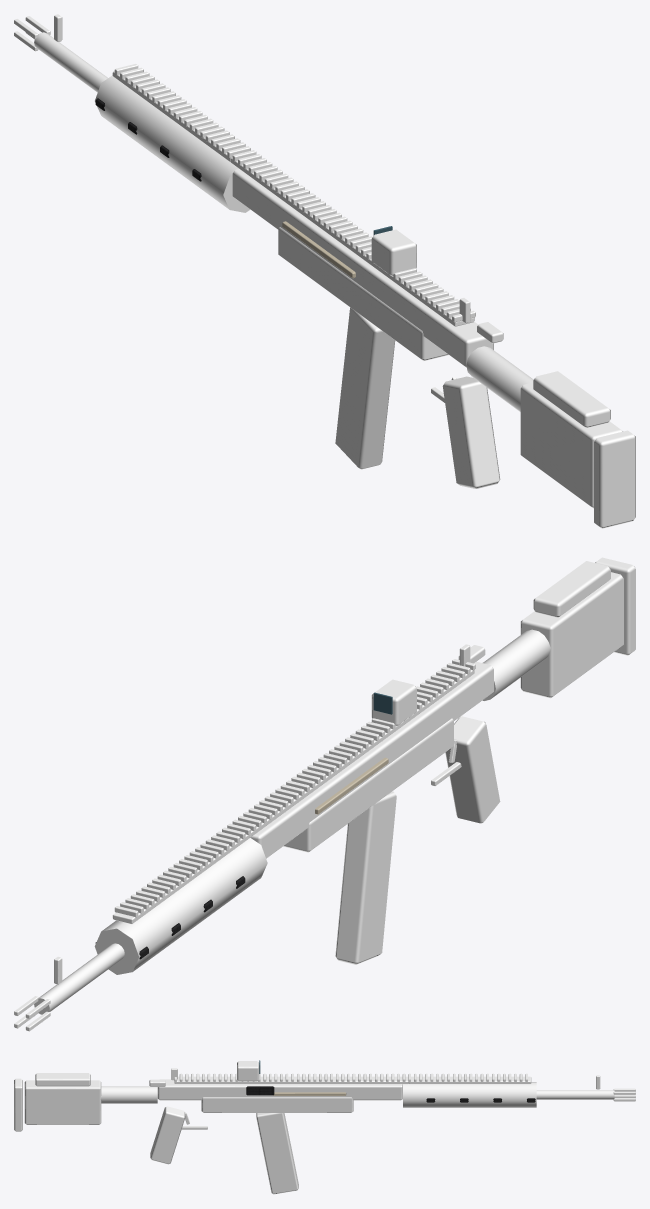
The model's file is talon.glb.
3 renders of one model, top to bottom at view 1: azimuth 30°, elevation 25°; view 2: azimuth 150°, elevation 25°; view 3: azimuth 270°, elevation 25°, orthographic. The views are drawn at different scales.
Size of the model in its own units: 0.05 by 0.2566 by 1.12.
5 materials, 1 textured.
